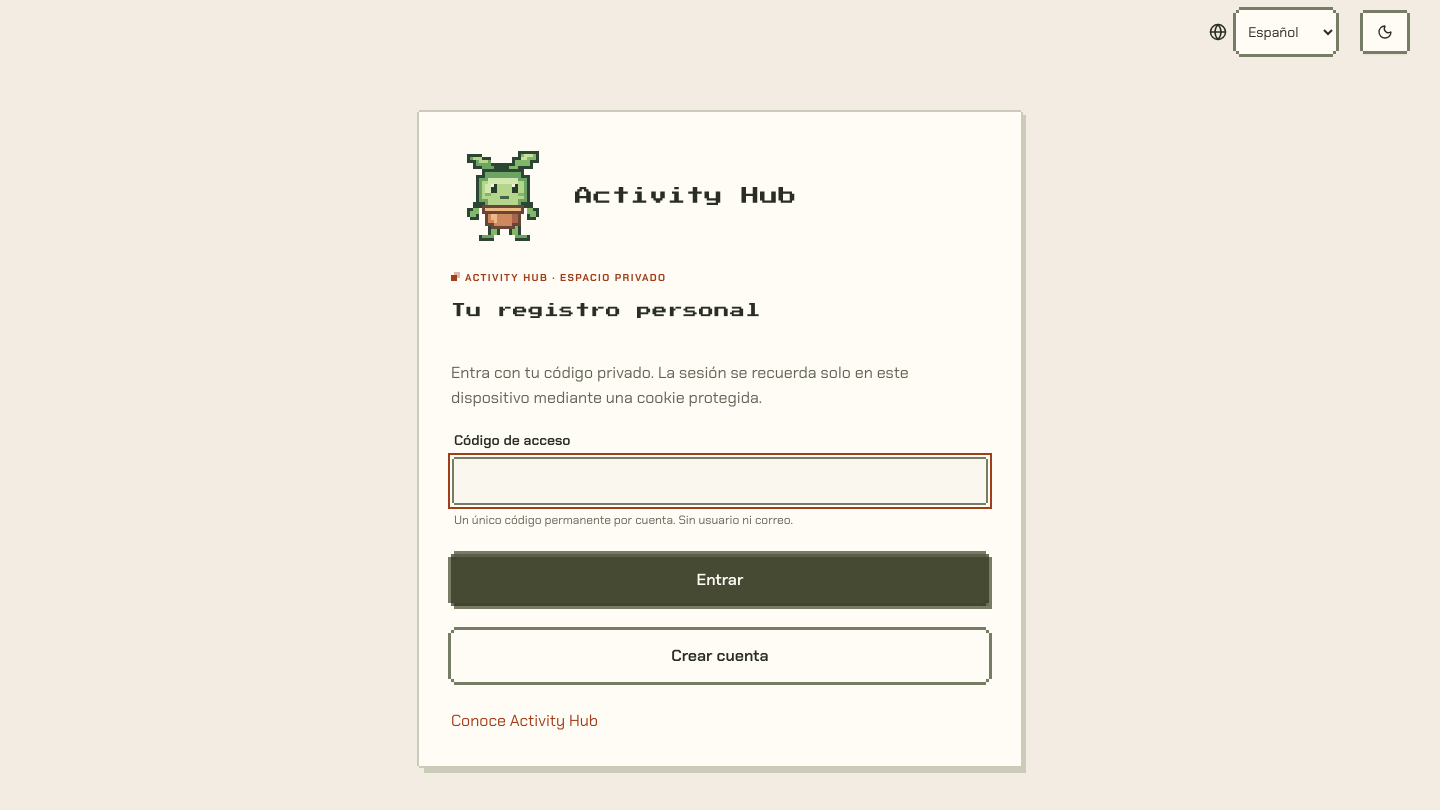
Test case: Interfaz bilingüe sin reiniciar la aplicación › conserva el mismo campo autocompletado, el foco y el cliente al cambiar de idioma
Type "ABCD-EFGH-JKLM-NPQR-STUV-WXYZ-2345-6789" into the password field labelled "Código de acceso". click: (720, 481)
box: [454,459,986,503]
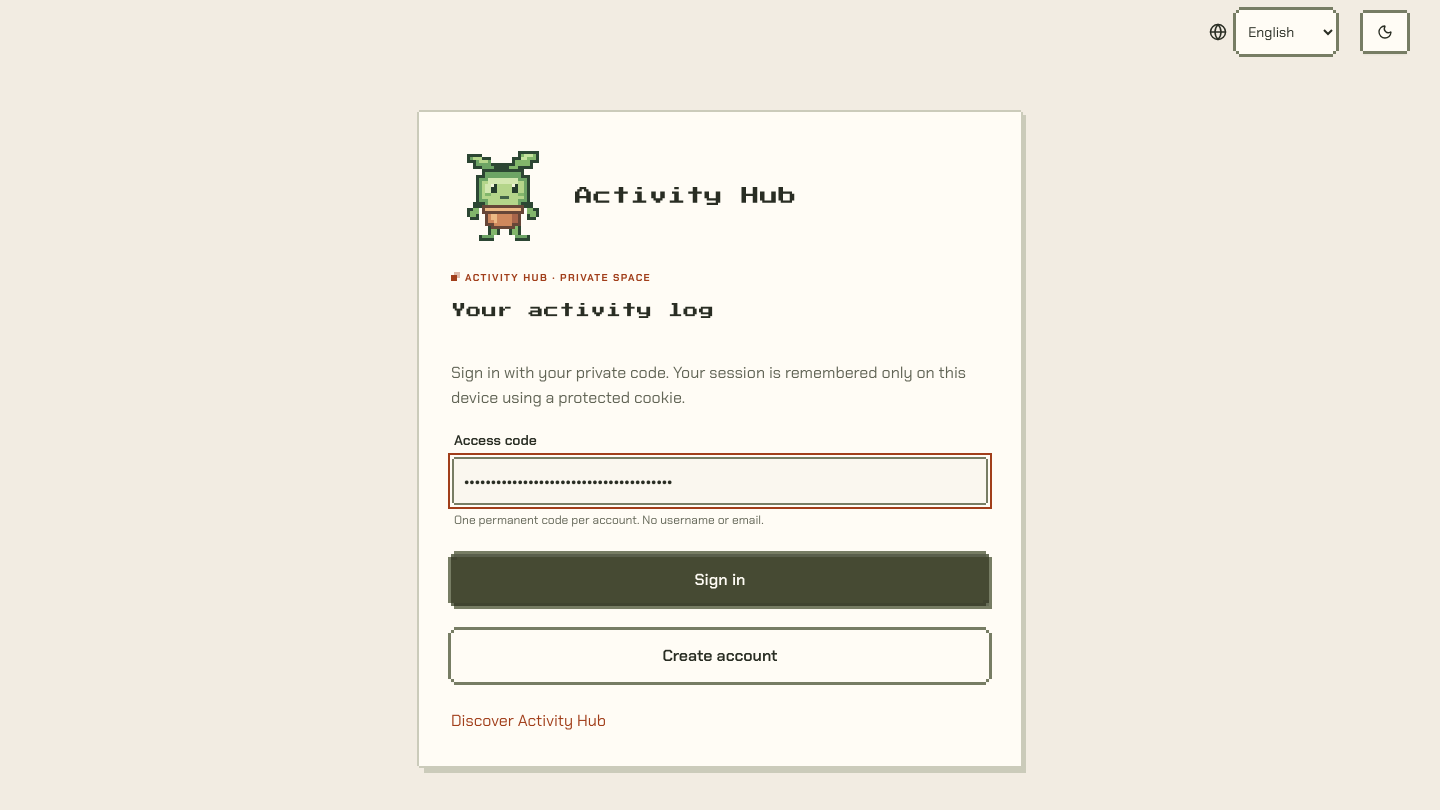
Click the button "Sign in". click: (720, 580)
box: [451,554,989,606]
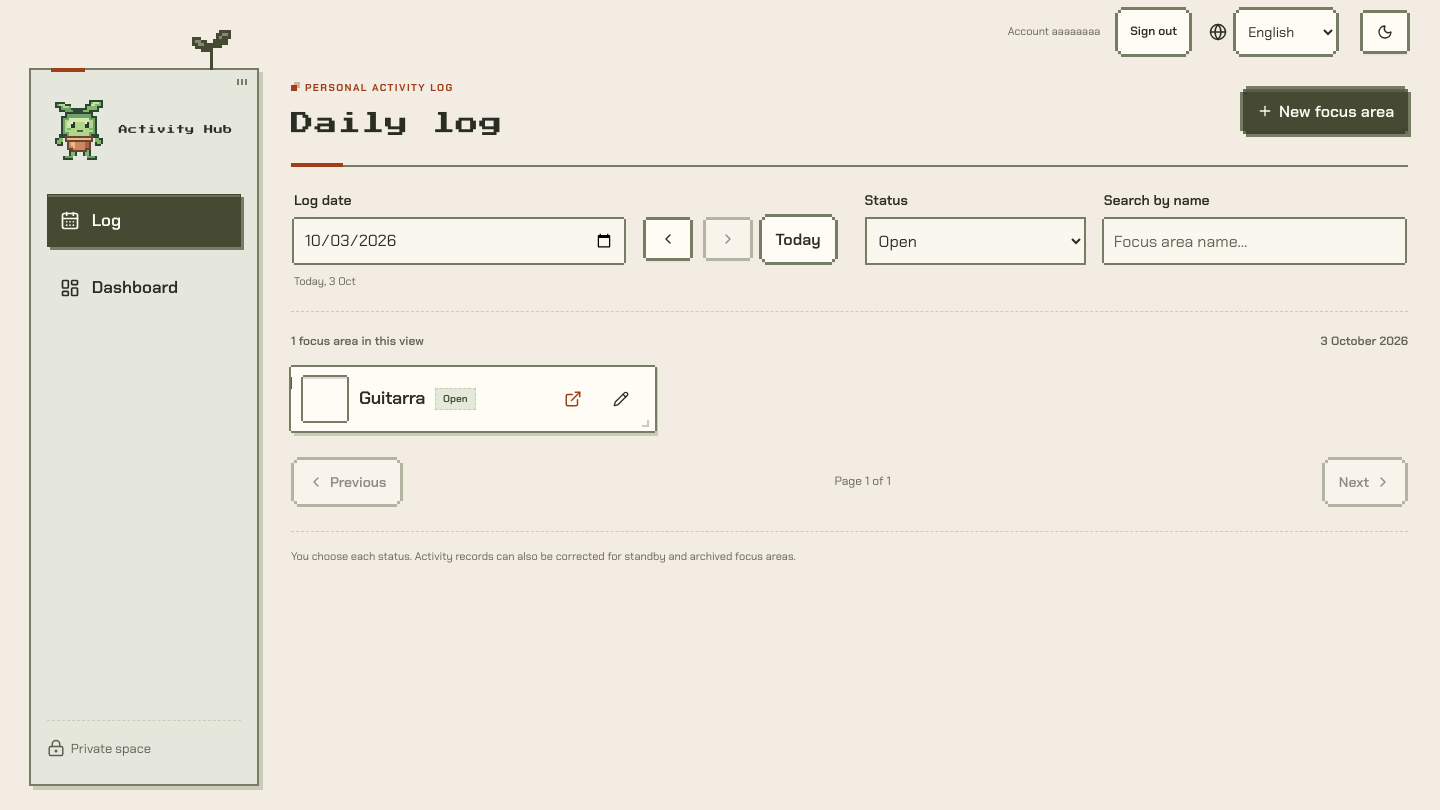
Expected: the heading "Daily log" is shown, [291,112,503,135]
Expected: the navigation bar named "Private session" shows "Account aaaaaaaa", [1008,24,1100,38]
